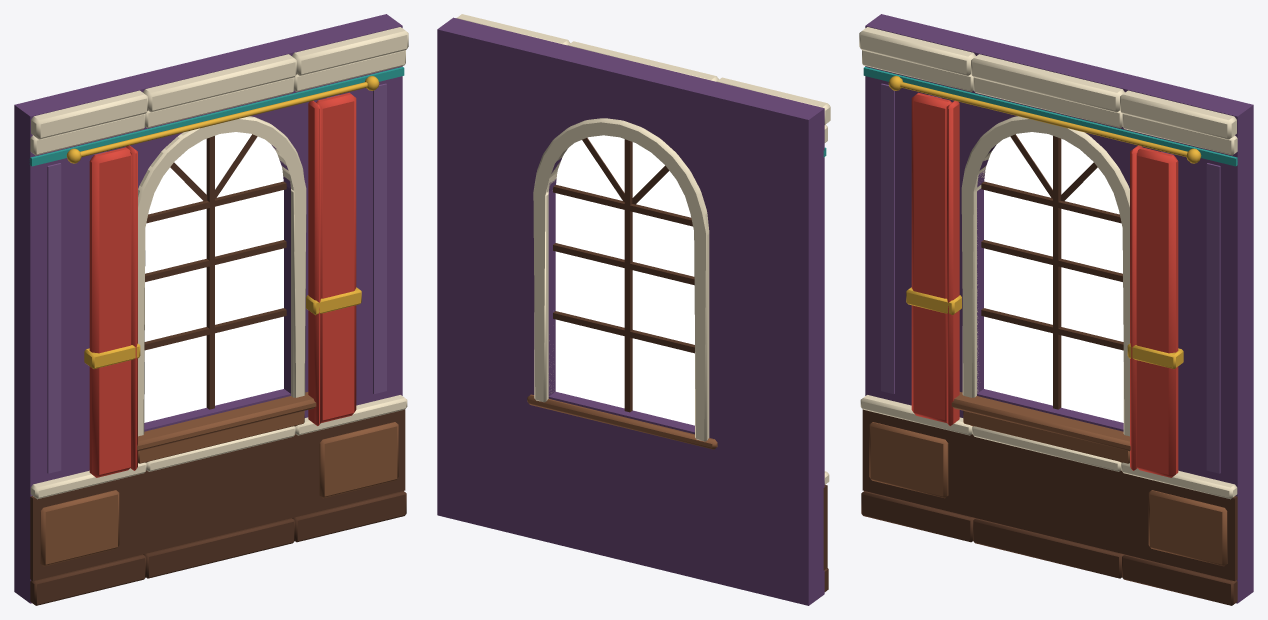
File: wall_window.glb
3 views of the same model, side by side, from view 1: azimuth 30°, elevation 25°; view 2: azimuth 150°, elevation 25°; view 3: azimuth 330°, elevation 25° (orthographic).
Parts seen in each view (by area): view 1: wall_window; view 2: wall_window; view 3: wall_window.
Boxes of the visible parts, x1,y1,x2,y2 form: wall_window: (14, 14, 408, 605); wall_window: (437, 14, 830, 605); wall_window: (859, 14, 1253, 605).
Bounding box in the file's own units: 4 × 5 × 0.57.
